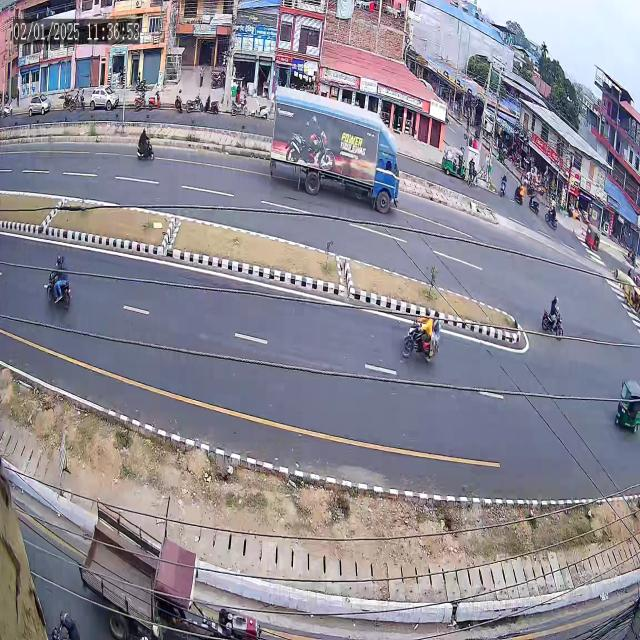auto: (609, 361, 640, 441)
motorcycle: (398, 300, 442, 374), (39, 254, 74, 314), (539, 290, 566, 354), (132, 118, 156, 176)
truck: (258, 73, 412, 240)
